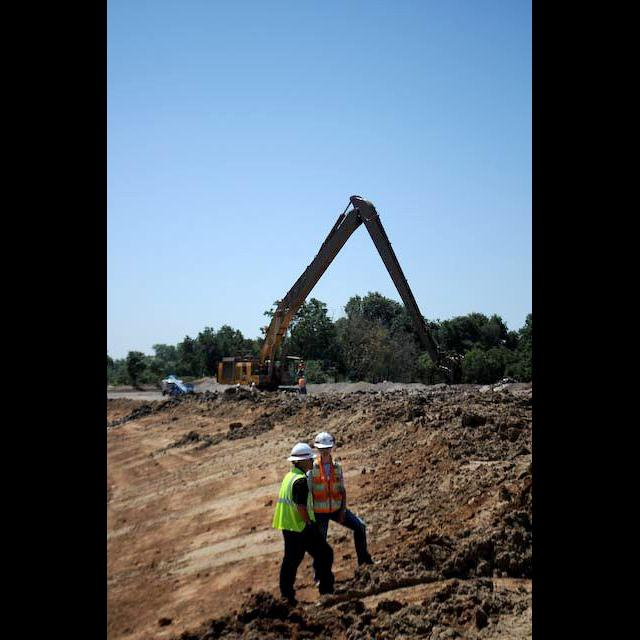Excavator: (220, 194, 467, 392)
Gloves: (308, 520, 322, 540)
Hardhat: (288, 442, 317, 461), (315, 433, 334, 448), (303, 375, 306, 378), (301, 360, 304, 362)
NO-Mask: (319, 452, 333, 458), (305, 462, 315, 470)
Person: (308, 432, 375, 581), (273, 442, 336, 600), (298, 359, 306, 378), (300, 375, 308, 394)
Safety Vest: (272, 468, 317, 533), (312, 462, 344, 513), (300, 378, 306, 387), (300, 363, 306, 370)
